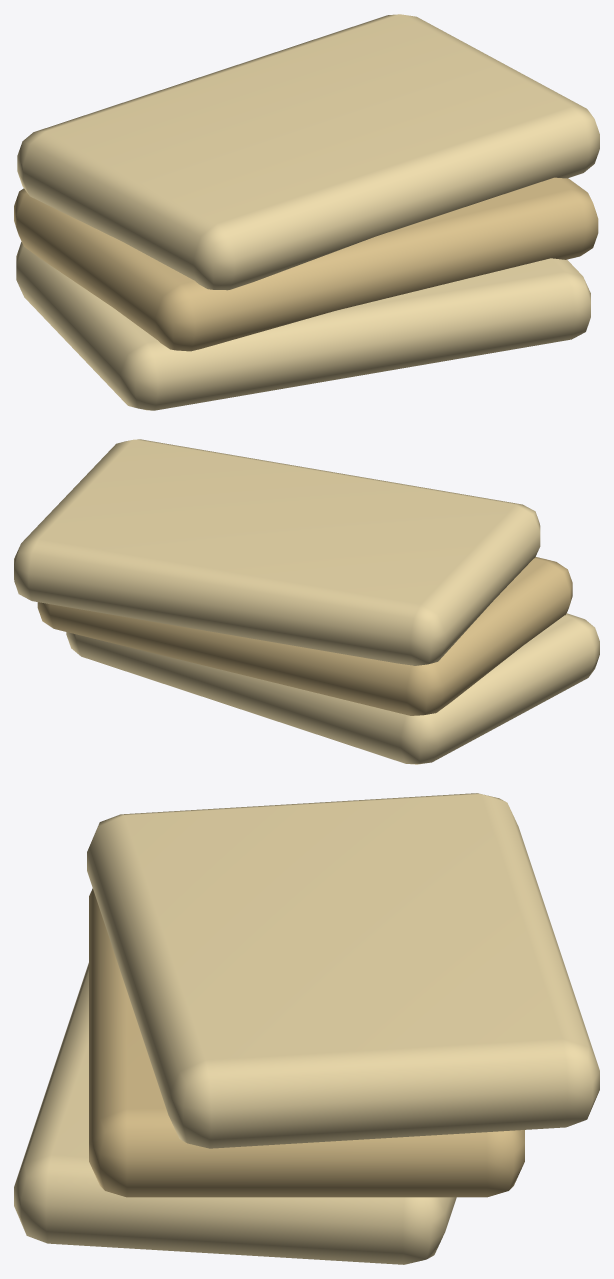
File: fishcake.glb
3 renders of one model, top to bottom at view 1: azimuth 30°, elevation 25°; view 2: azimuth 150°, elevation 25°; view 3: azimuth 270°, elevation 25°, orthographic. The views are drawn at different scales.
Visible parts, largest first — view 1: fishcake; view 2: fishcake; view 3: fishcake.
Boxes of the visible parts, left/top/right/bottom form: fishcake: left=14, top=14, right=599, bottom=410; fishcake: left=14, top=439, right=599, bottom=764; fishcake: left=14, top=793, right=599, bottom=1264.
Bounding box in the file's own units: 0.5776 × 0.19 × 0.4492.
